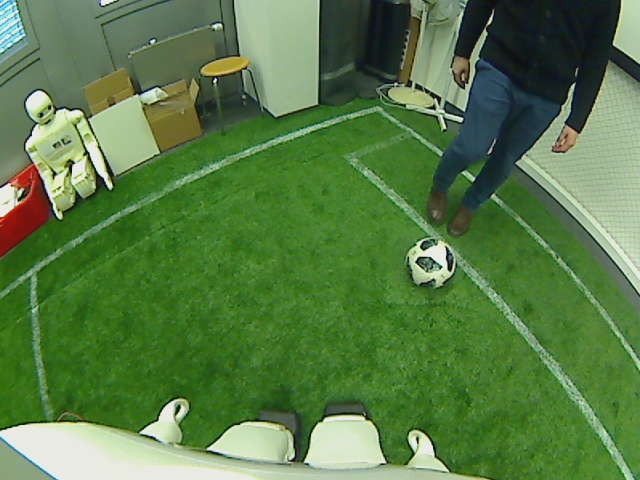ball: (404, 235, 456, 288)
